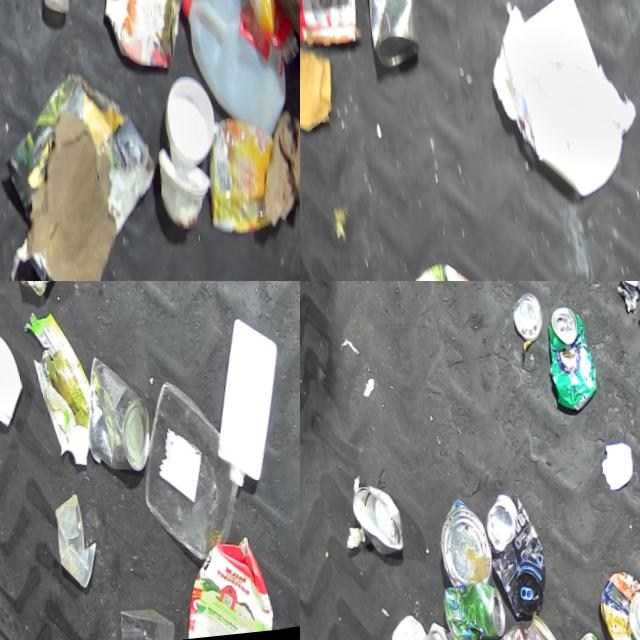can: (67, 352, 147, 481), (474, 494, 544, 627), (539, 309, 597, 421), (427, 500, 487, 592), (352, 0, 420, 77), (343, 480, 400, 560), (434, 583, 501, 640), (587, 574, 640, 640), (507, 297, 542, 349), (412, 620, 474, 640), (512, 617, 556, 640)
milk_jug: (188, 320, 288, 501), (171, 0, 289, 151)
non_white_jug: (152, 532, 260, 640)
